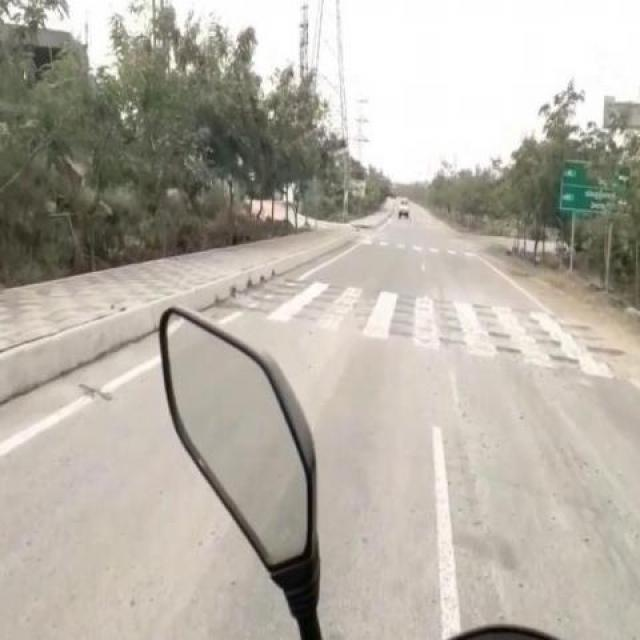Speed Bump: (286, 272, 628, 377)
